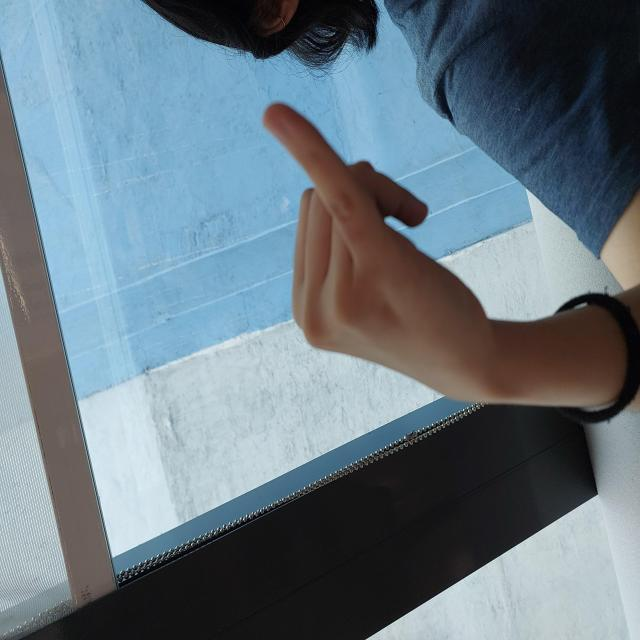J: (243, 261, 539, 490)
